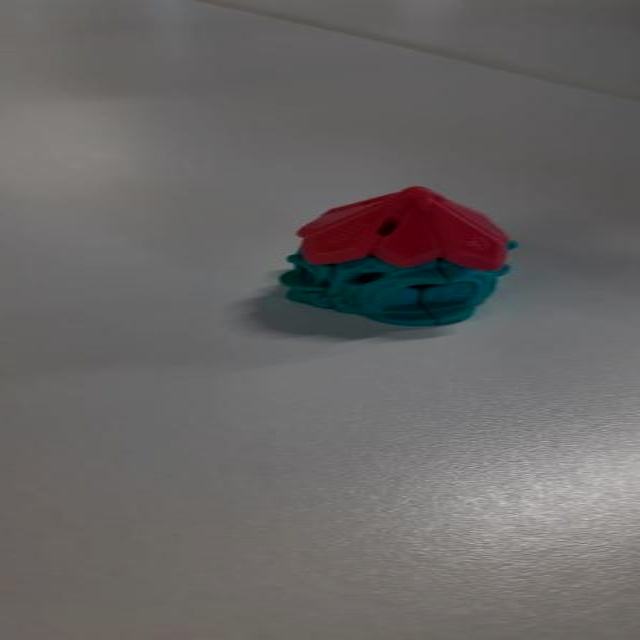House: (253, 177, 520, 328)
